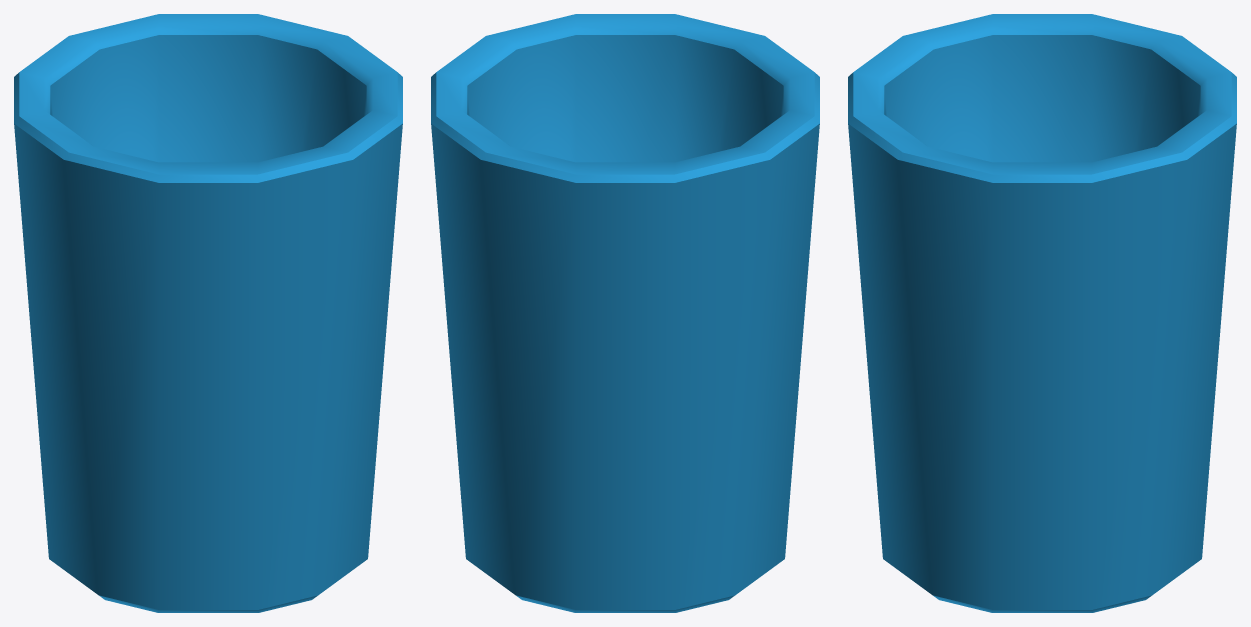
Rendered from Cup1.FBX.
3 renders of one model, left to right at view 1: azimuth 30°, elevation 25°; view 2: azimuth 150°, elevation 25°; view 3: azimuth 270°, elevation 25°, orthographic.
Parts seen in each view (by area): view 1: Cup_01; view 2: Cup_01; view 3: Cup_01.
Part boxes in pixels (x1,y1,x2,y2): Cup_01: (14, 14, 402, 612); Cup_01: (431, 14, 819, 612); Cup_01: (848, 14, 1236, 612).
Bounding box in the file's own units: 9.57 × 12.29 × 9.5.
